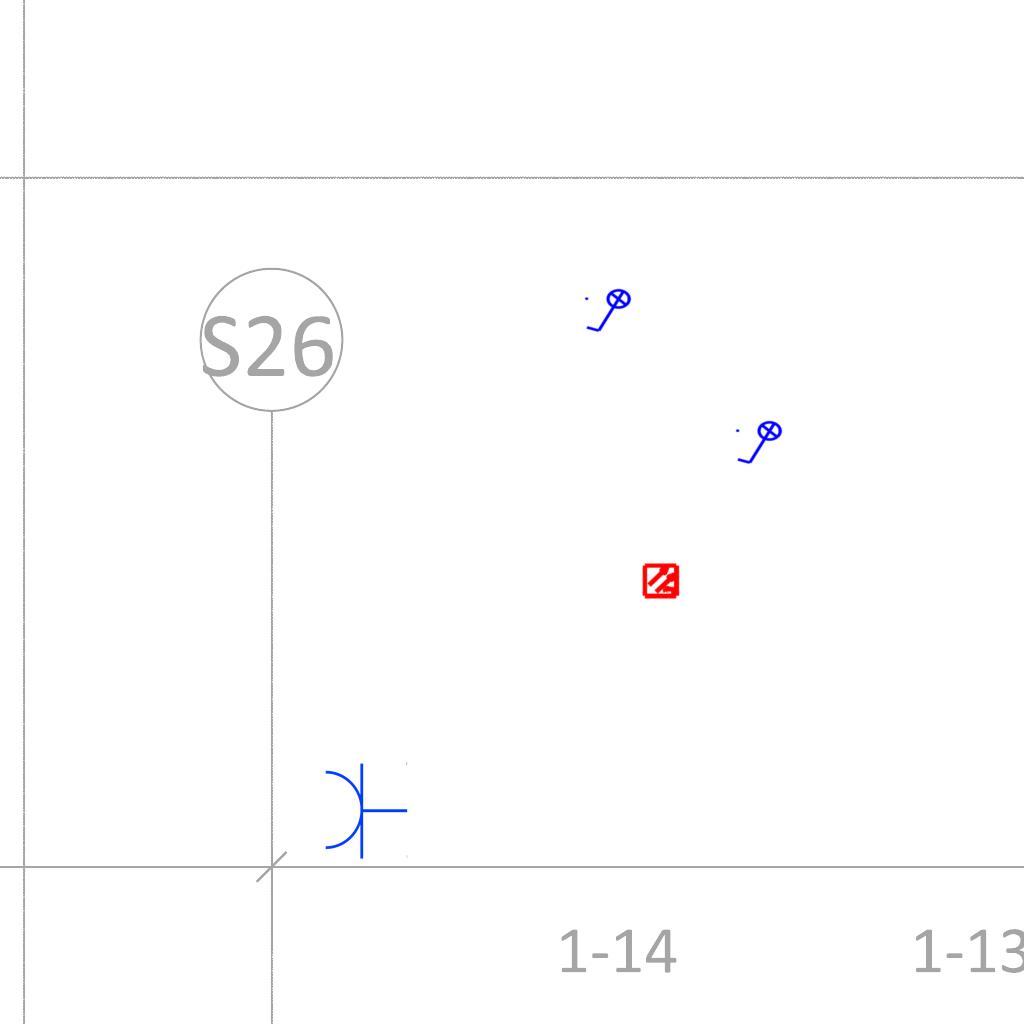Ausschalter_beleuchtet: (582, 288, 638, 336), (733, 420, 789, 468)
OT_Multisensormelder_(Kombination_RMO_WMD): (634, 553, 690, 609)
Schukosteckdose_einfach: (321, 760, 408, 860)
